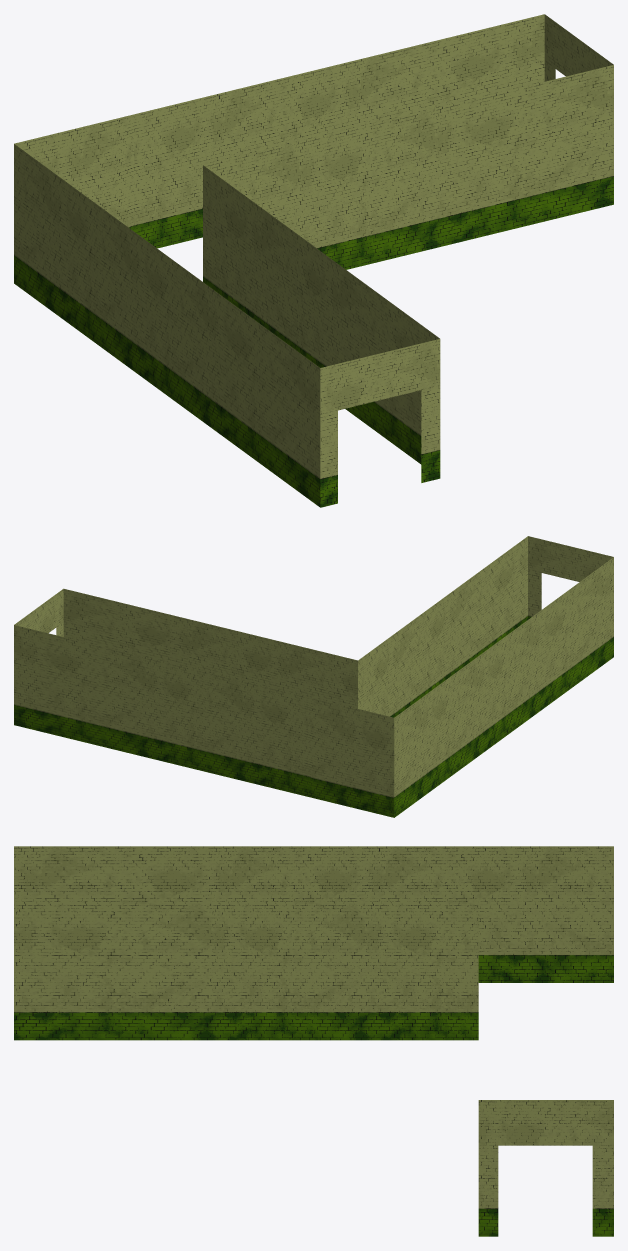
File: Wall_green.fbx
The picture shows the model from 3 angles, top to bottom: view 1: azimuth 30°, elevation 25°; view 2: azimuth 150°, elevation 25°; view 3: azimuth 270°, elevation 25°; orthographic projection. The views are drawn at different scales.
Parts seen in each view (by area): view 1: Wall_Green; view 2: Wall_Green; view 3: Wall_Green.
Part boxes in pixels (<box>): Wall_Green: <box>14,14,613,507</box>; Wall_Green: <box>14,536,613,817</box>; Wall_Green: <box>14,846,613,1236</box>.
Size of the model in its own units: 41.19 by 10.37 by 41.19.
